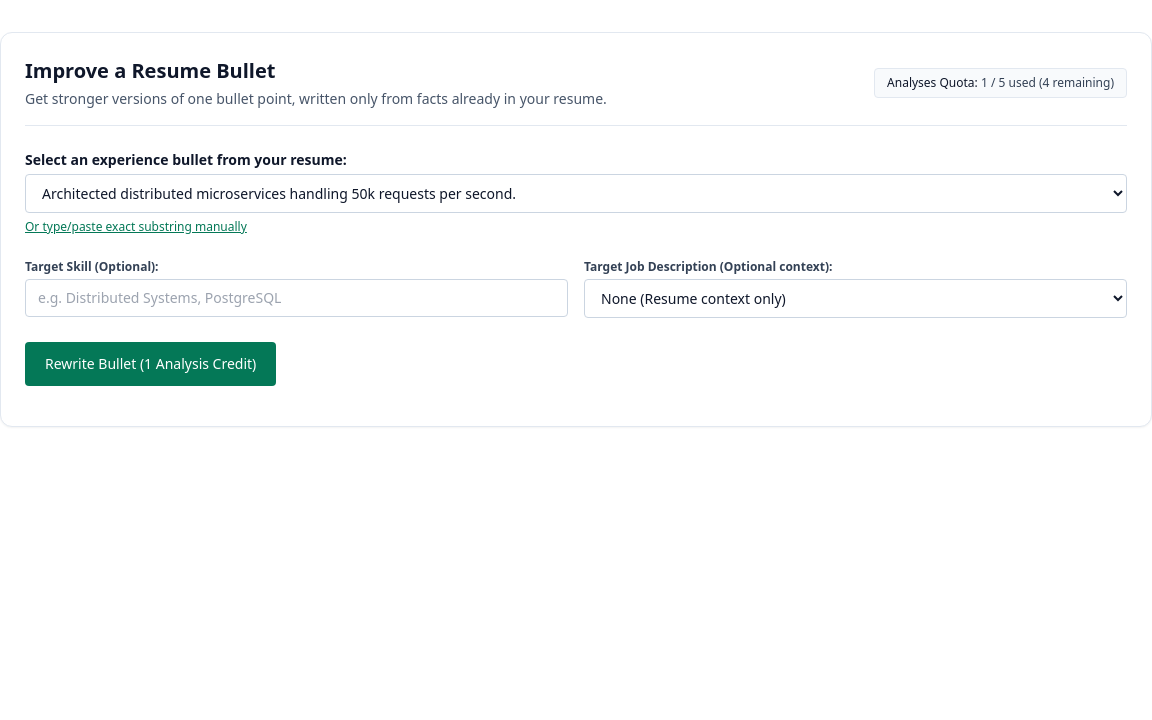
Scenario: BulletEditor Component › handles 422 HALLUCINATION_DETECTED with plain-language message and refetches usage
The image size is (1152, 720).
Click the button "Rewrite Bullet (1 Analysis Credit)": (151, 364) [25, 342, 276, 386]
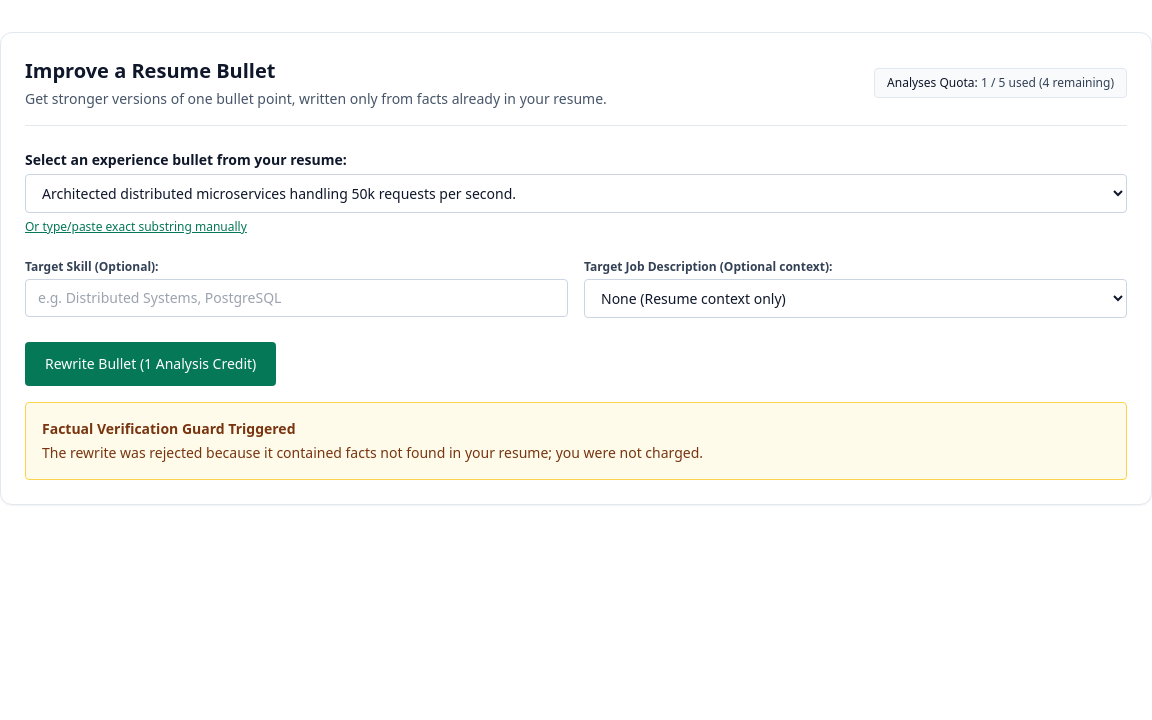
Check: the text "Factual Verification Guard Triggered" is shown, box [42, 419, 296, 438]
Check: the text "The rewrite was rejected because it contained facts not found in your resume; you were not charged" is shown, box [42, 443, 703, 462]
